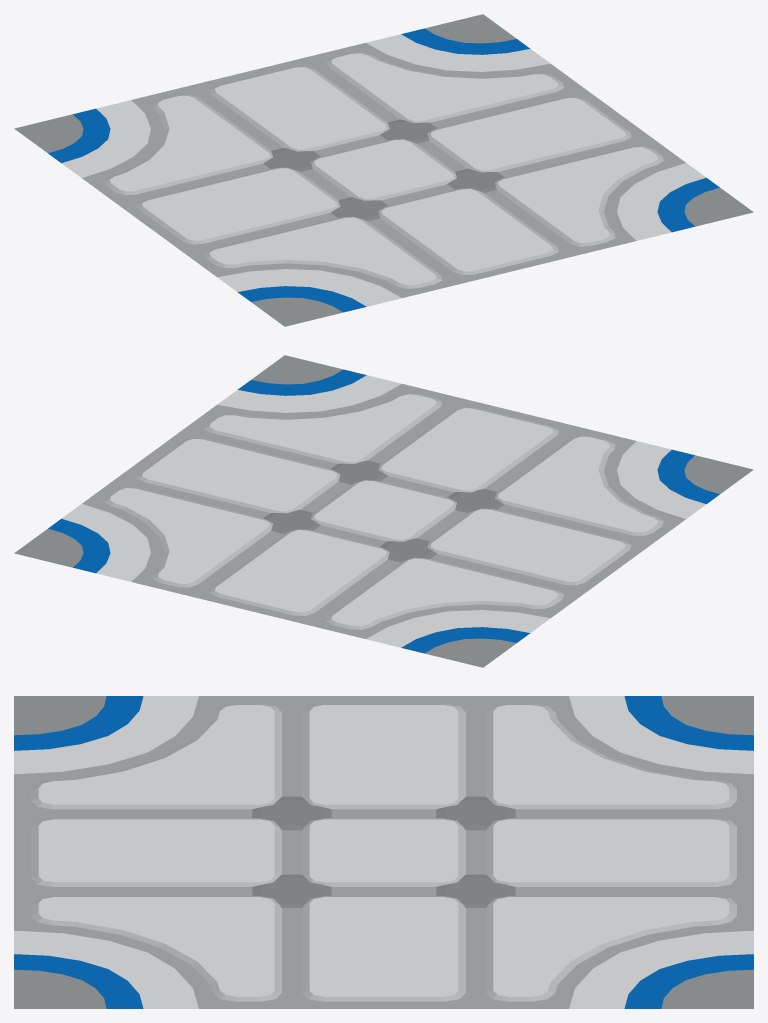
The model's file is Floor_type_A_009.fbx.
3 views of the same model, one above another, from view 1: azimuth 30°, elevation 25°; view 2: azimuth 150°, elevation 25°; view 3: azimuth 270°, elevation 25° (orthographic). The views are drawn at different scales.
Parts seen in each view (by area): view 1: Floor_type_A_009; view 2: Floor_type_A_009; view 3: Floor_type_A_009.
Part boxes in pixels (box(x1,y1,x2,y2)): Floor_type_A_009: box(14, 14, 753, 326); Floor_type_A_009: box(14, 355, 753, 667); Floor_type_A_009: box(14, 696, 753, 1008).
Bounding box in the file's own units: 400 × 400 × 1.34.
